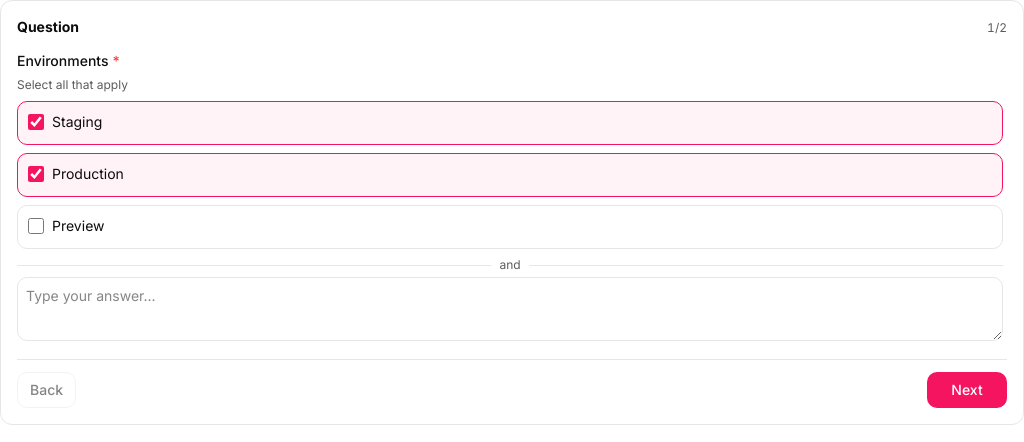
Test case: QuestionForm › summarizes a multi-select answer on the review step
The image size is (1024, 442).
Expected: the checkbox labelled "Staging" is checked, [28,114,44,130]
Click the checkbox labelled "Production" at (36, 174), box [28,166,44,182]
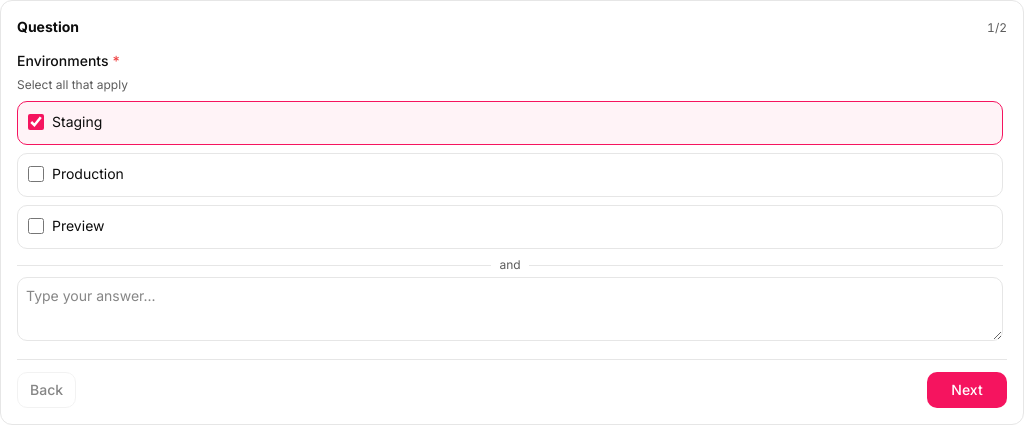
Click the checkbox labelled "Preview" at (36, 226), box [28,218,44,234]
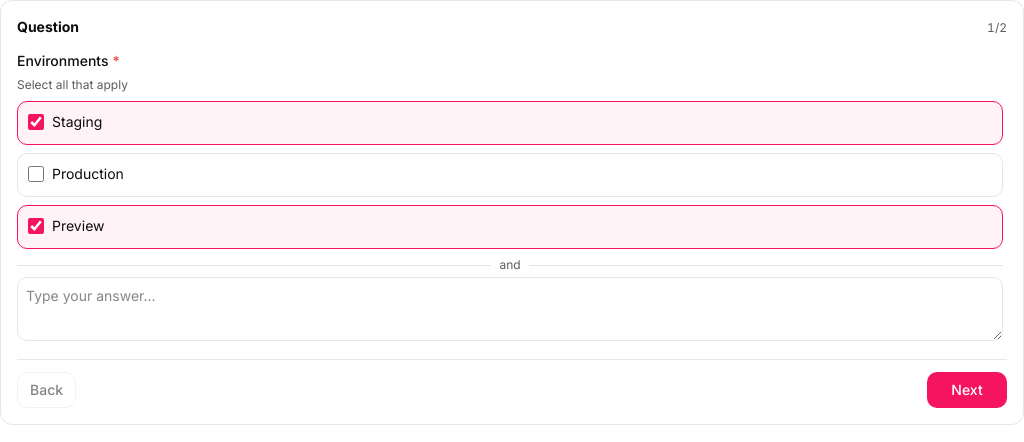
Type "also blue" into the text box named "Other answer" at (510, 309), box [17,277,1003,341]
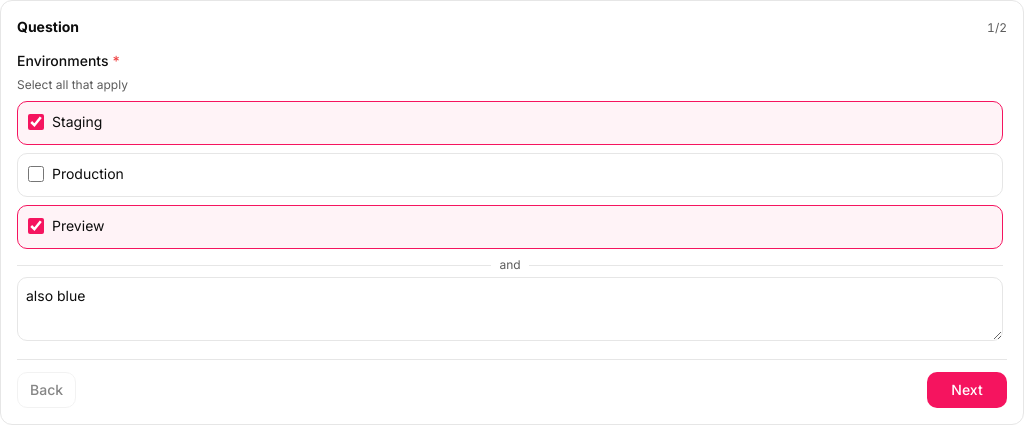
Click the button "Next" at (967, 390), box [927,372,1007,408]
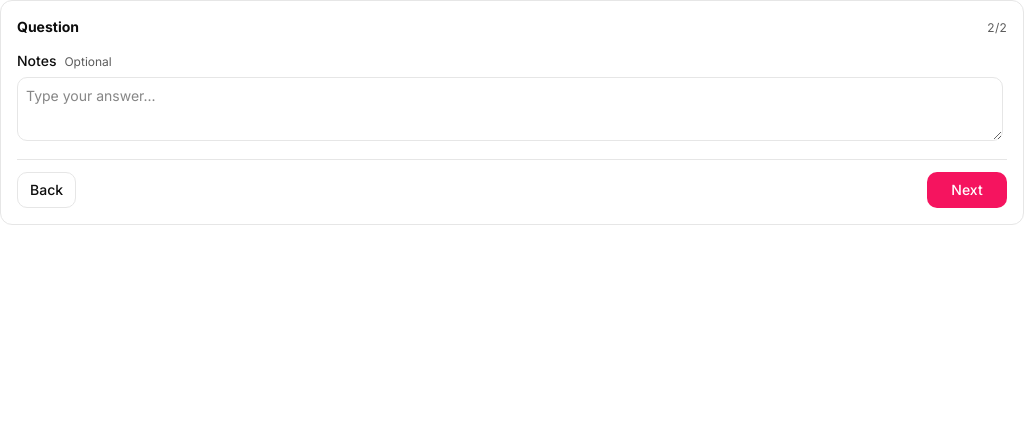
Click the button "Next" at (967, 190), box [927,172,1007,208]
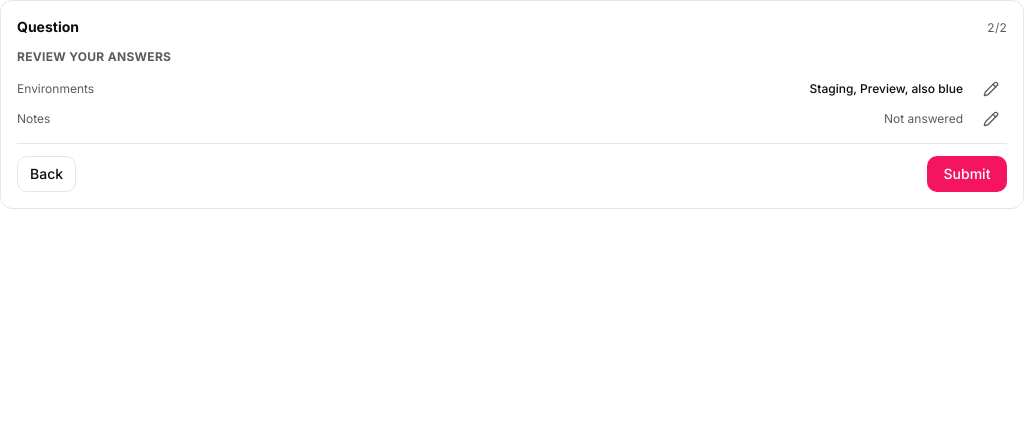
Now the text "Review your answers" is shown, box [17,49,171,64]
Now the text "Staging, Preview, also blue" is shown, box [810,81,963,96]
Now the text "Not answered" is shown, box [884,111,963,126]
